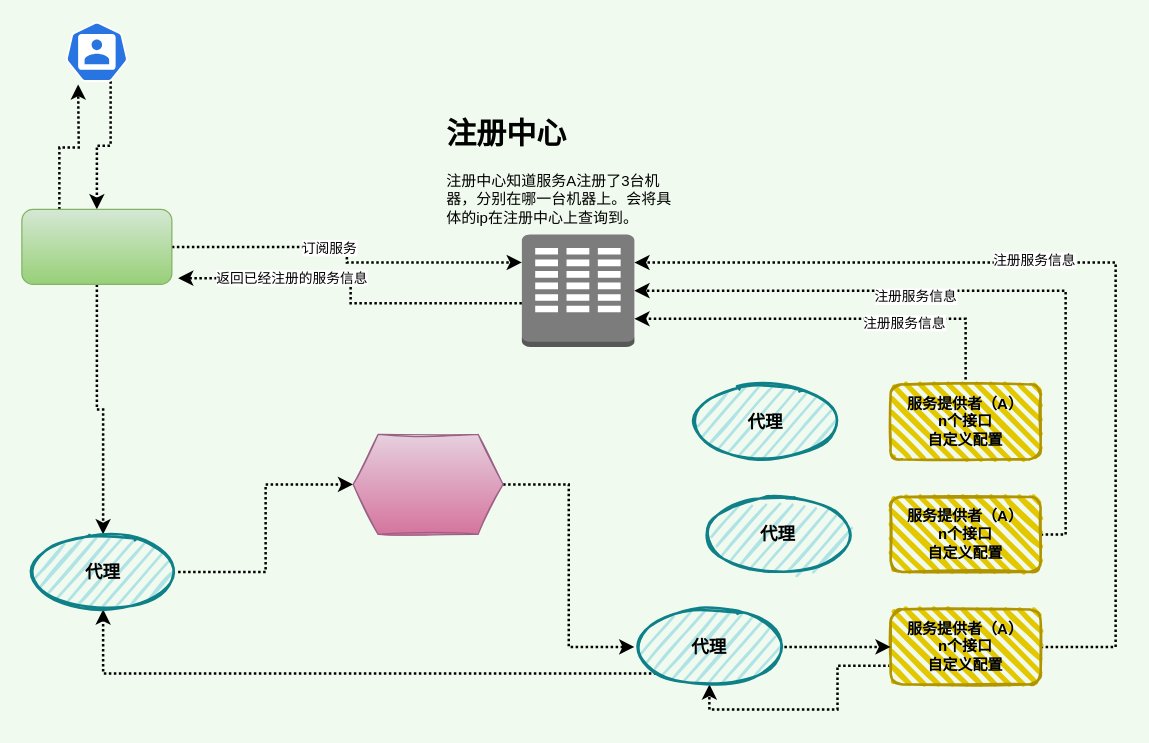
Image size: 1149x743. Some labels were removed from this diagram. Each missing label, with the box of its shape:
Consumer: (21, 208, 172, 284)
负载均衡: (352, 433, 503, 534)
